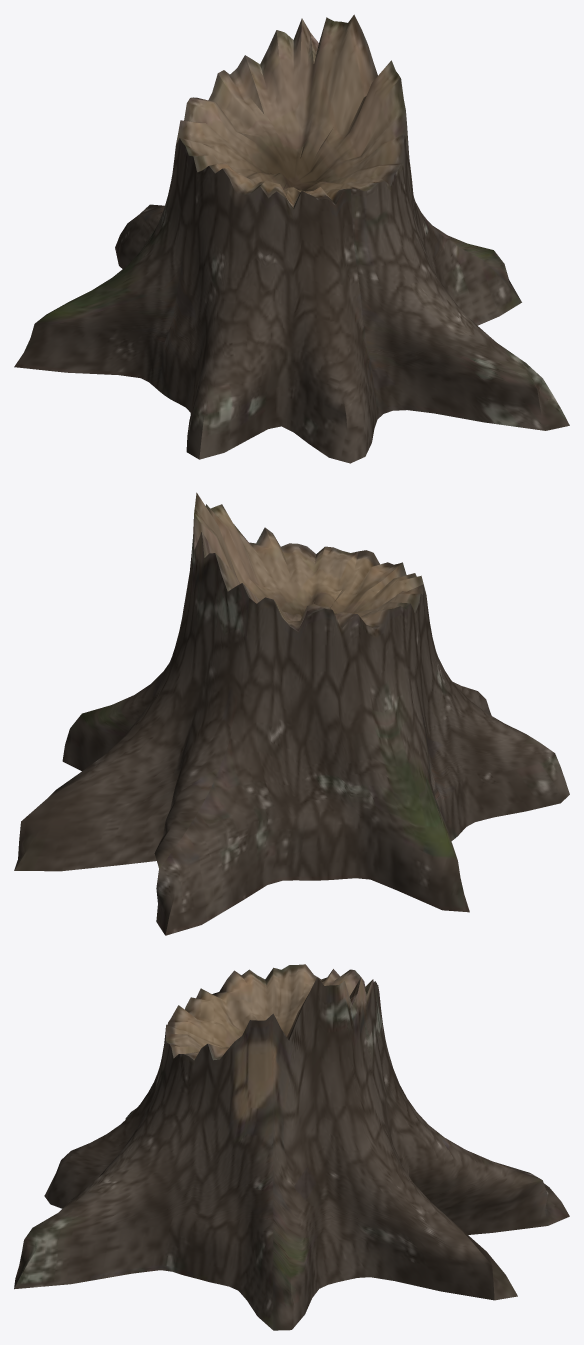
File: stump_b.glb
3 renders of one model, top to bottom at view 1: azimuth 30°, elevation 25°; view 2: azimuth 150°, elevation 25°; view 3: azimuth 270°, elevation 25°, orthographic. The views are drawn at different scales.
Visible parts, largest first — view 1: stump_b; view 2: stump_b; view 3: stump_b.
Part boxes in pixels (<box>): stump_b: <box>14,14,569,463</box>; stump_b: <box>14,492,569,935</box>; stump_b: <box>14,964,569,1330</box>.
Bounding box in the file's own units: 1.18 × 0.771 × 1.35.
Materials: 1 (1 with a texture image).
